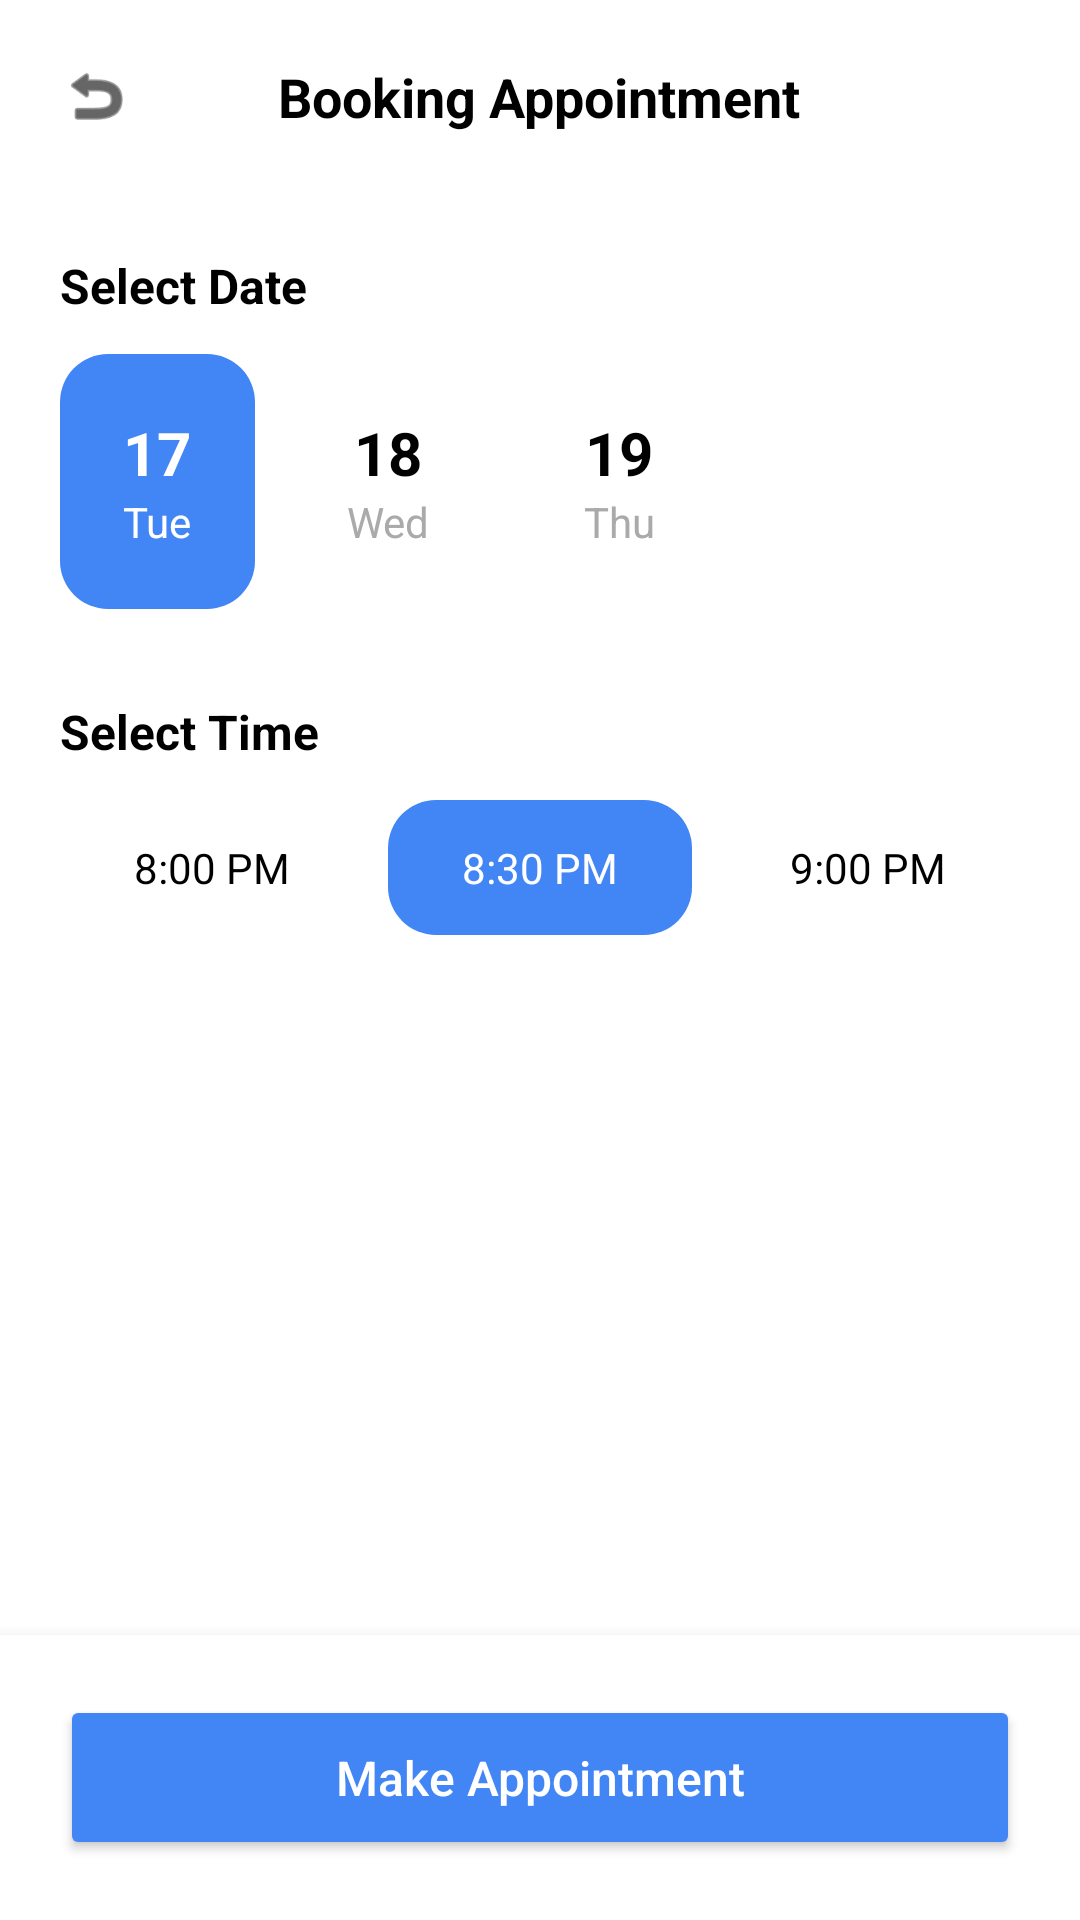

Screen size 1080 × 1920. Icon name, then its center in pixels as [x,y]:
revert: [97,96]
